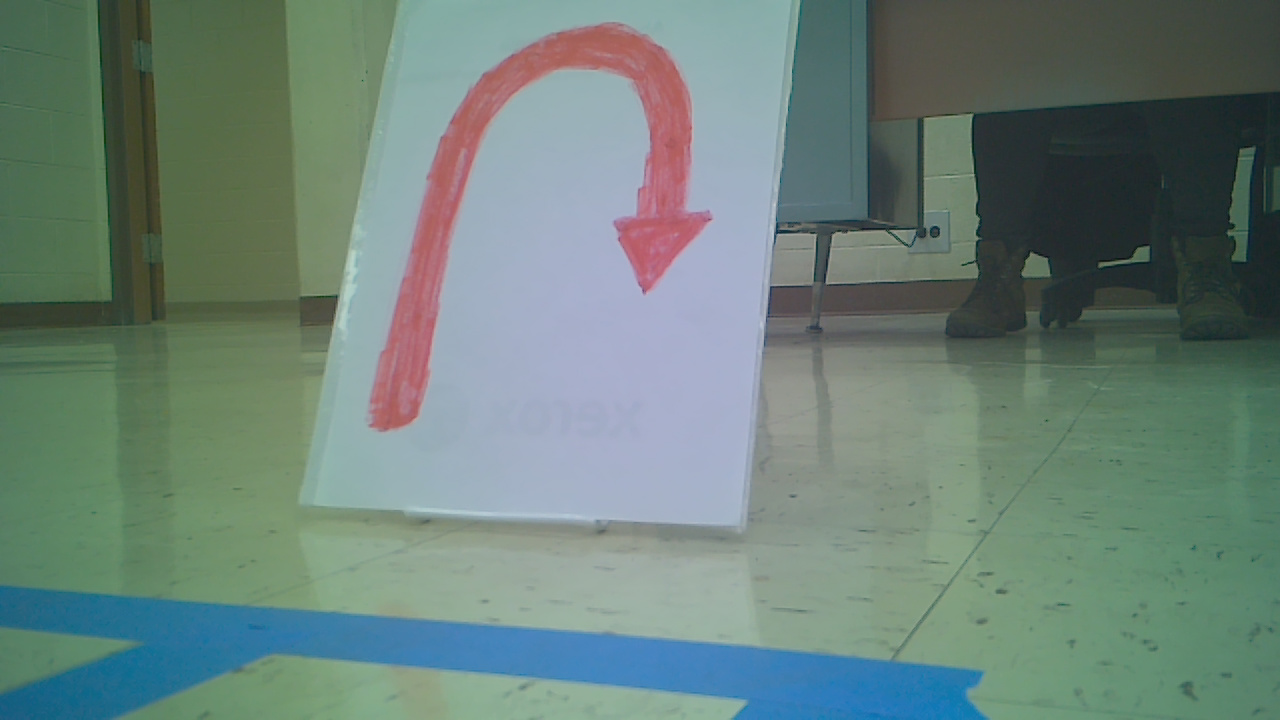uturn: (372, 14, 714, 433)
